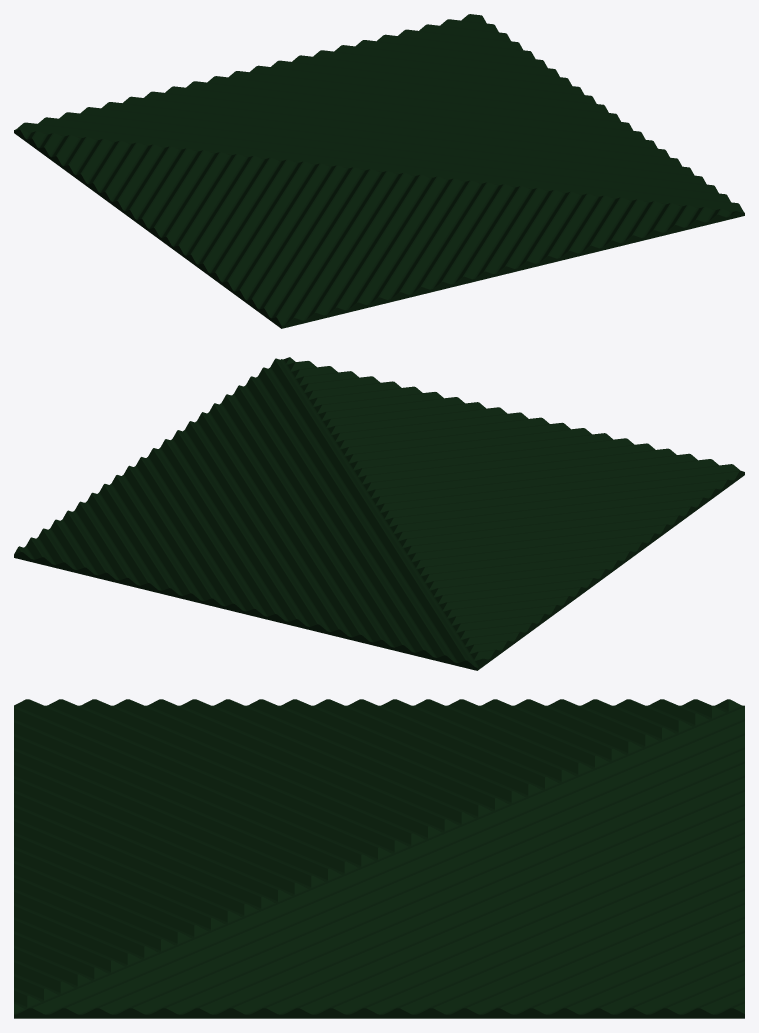
Rendered from panels.gltf.
The picture shows the model from 3 angles, top to bottom: view 1: azimuth 30°, elevation 25°; view 2: azimuth 150°, elevation 25°; view 3: azimuth 270°, elevation 25°; orthographic projection. The views are drawn at different scales.
Visible parts, largest first — view 1: Panel_Base.001; view 2: Panel_Base.001; view 3: Panel_Base.001.
Part boxes in pixels (left/top/right/bottom): Panel_Base.001: left=14, top=14, right=744, bottom=328; Panel_Base.001: left=14, top=357, right=744, bottom=670; Panel_Base.001: left=14, top=699, right=744, bottom=1018.
Bounding box in the file's own units: 0.5 × 0.008 × 0.5.
